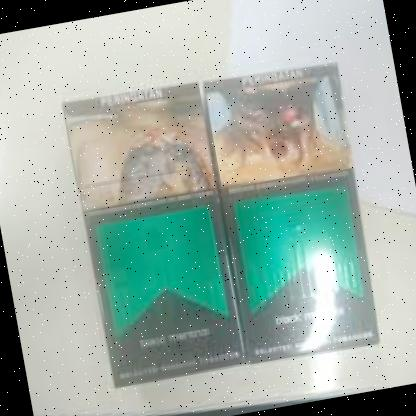bungkus rokok: (52, 70, 252, 396), (195, 50, 391, 369)
